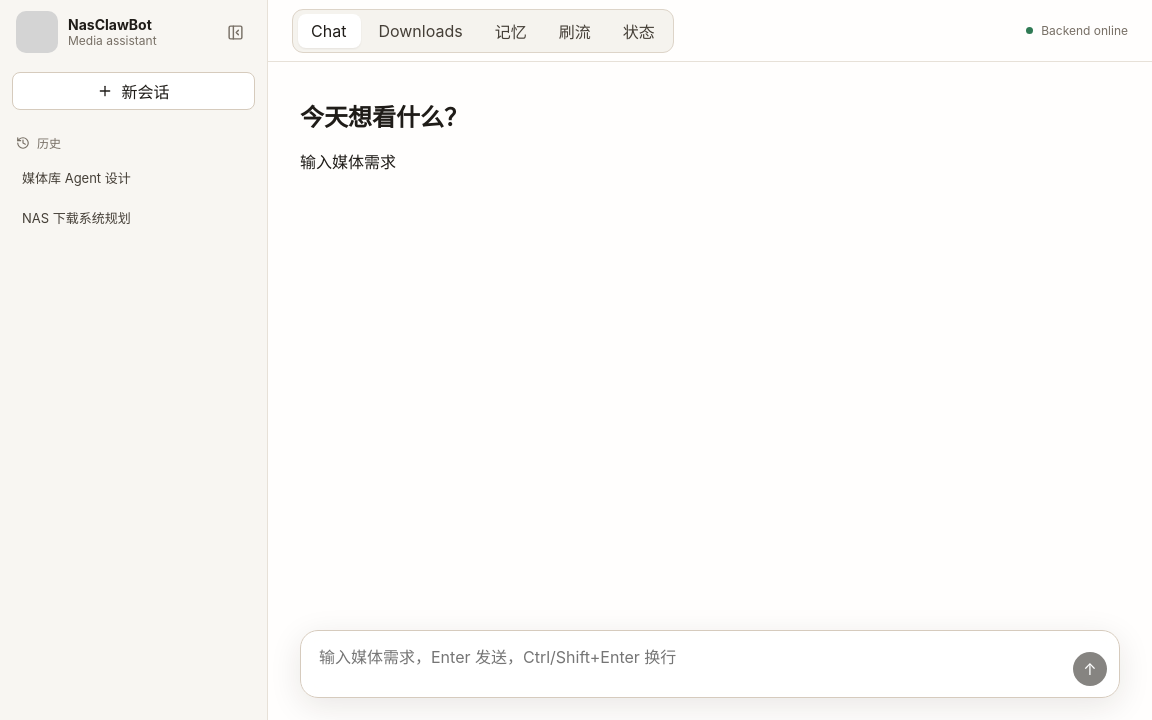
Scenario: AppShell › renders the historical session list and switches sessions from the sidebar
This screenshot has width=1152, height=720.
Expected: the button "媒体库 Agent 设计" is shown, top-left (12, 159), bottom-right (217, 196)
Click the button "NAS 下载系统规划": (114, 218) top-left (12, 199), bottom-right (217, 236)
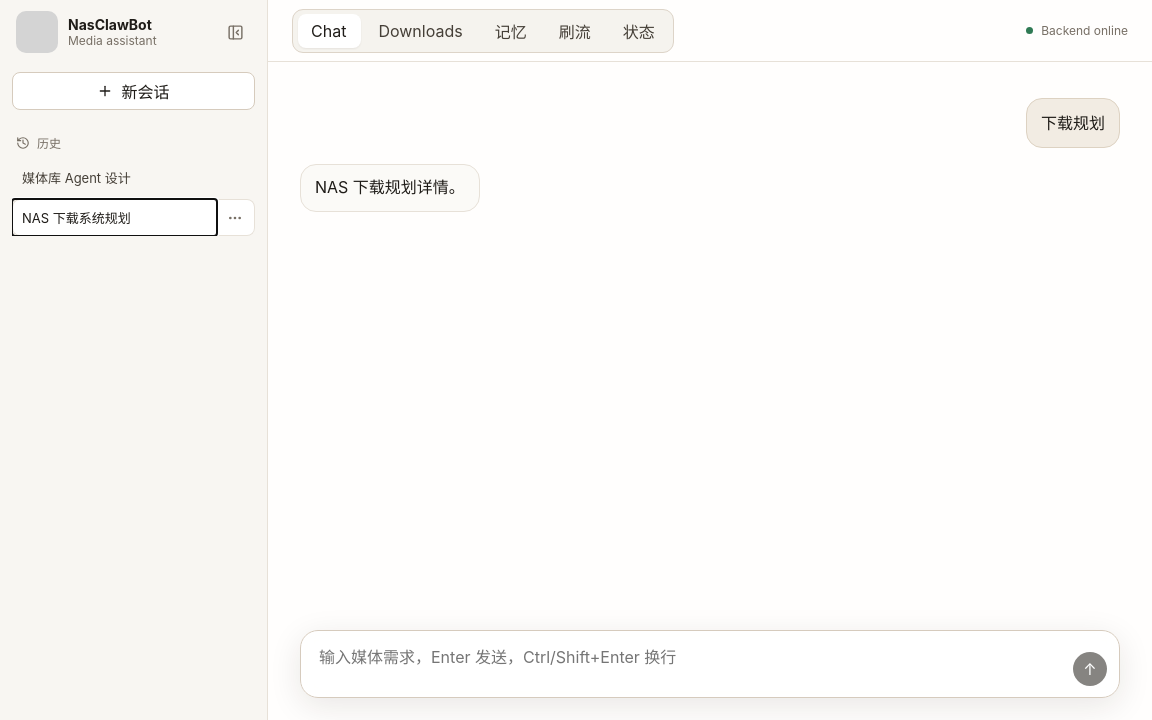
Result: the text "NAS 下载规划详情。" is shown at top-left (315, 177), bottom-right (465, 199)
